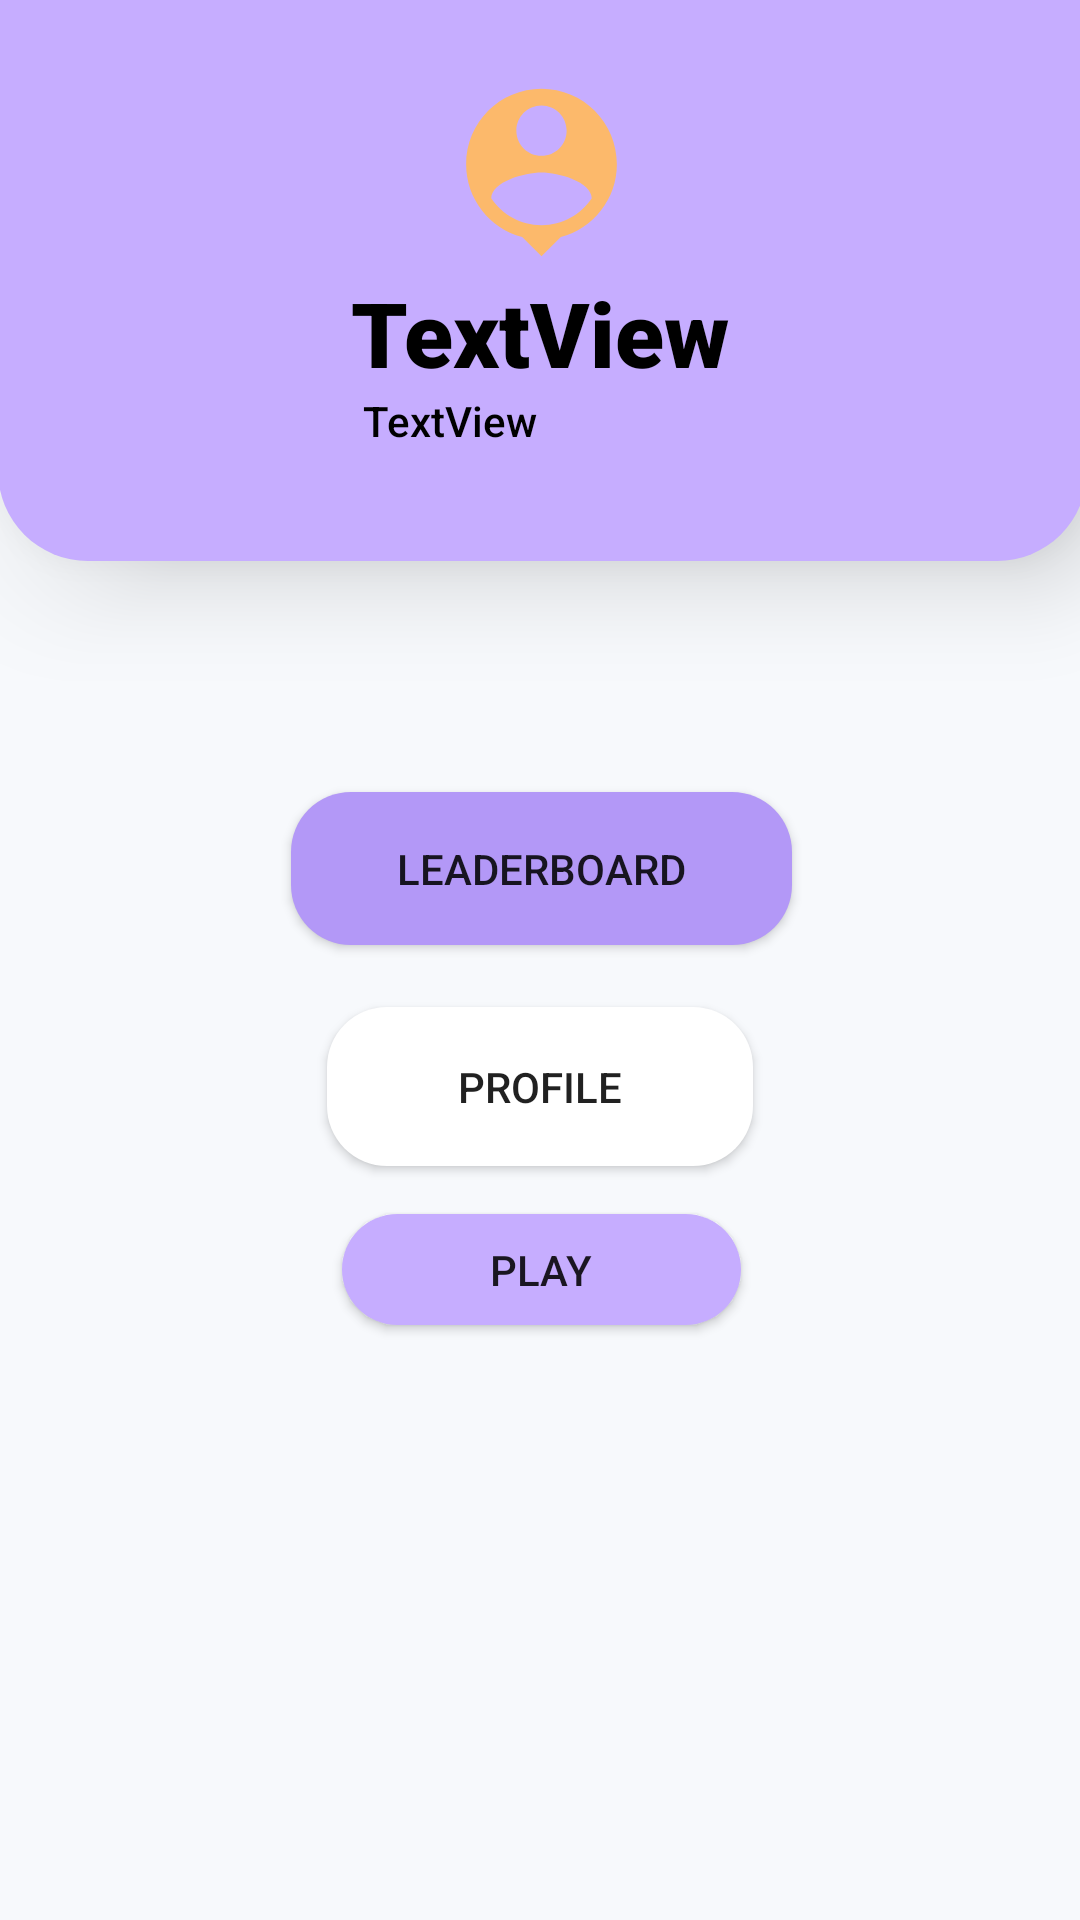

Named icons in this screenshot (1080*1920) and their bounding boxes, (x1, y1, x2, y2):
person pin: (466, 88, 617, 256)
